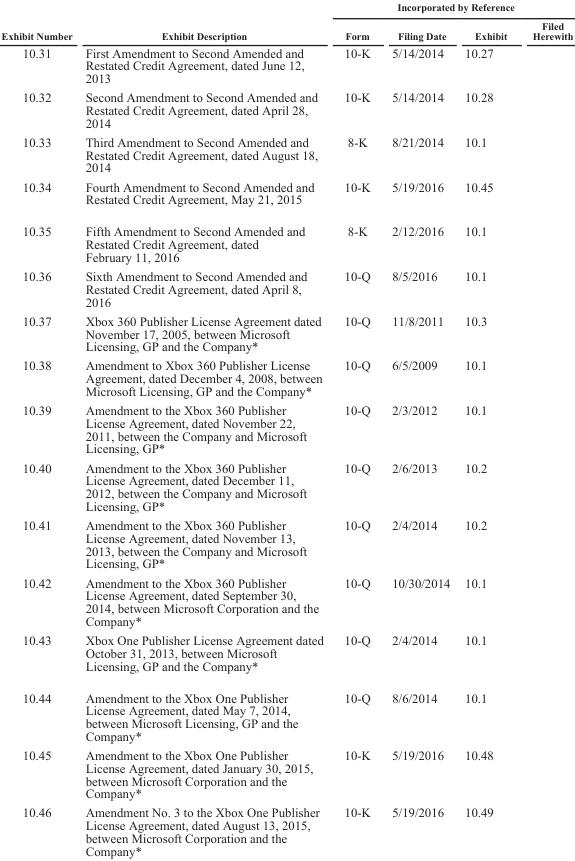table: (0, 0, 572, 857)
table column: (78, 0, 333, 857), (0, 0, 78, 857), (380, 0, 456, 857), (456, 0, 519, 857), (519, 0, 572, 857), (333, 0, 380, 857)
table column header: (0, 0, 572, 43)
table row: (0, 681, 572, 745), (0, 457, 572, 515), (0, 572, 572, 630), (0, 400, 572, 457), (0, 515, 572, 572), (0, 745, 572, 802), (0, 802, 572, 857), (0, 215, 572, 266), (0, 630, 572, 681), (0, 87, 572, 132), (0, 310, 572, 355), (0, 355, 572, 400), (0, 43, 572, 87), (0, 132, 572, 176), (0, 266, 572, 310), (0, 176, 572, 215), (0, 15, 572, 43), (0, 0, 572, 15)
table spanning cell: (78, 0, 333, 43), (333, 0, 572, 15), (0, 0, 78, 43)
